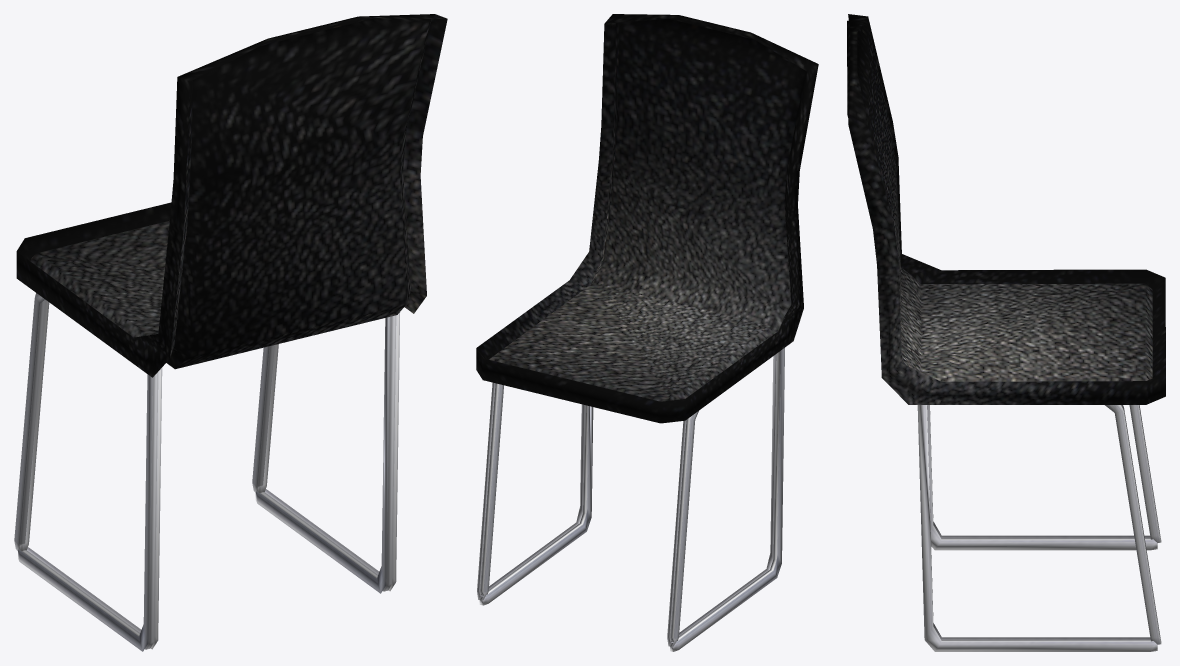
The model's file is chairCafeteria.fbx.
The picture shows the model from 3 angles, left to right: view 1: azimuth 30°, elevation 25°; view 2: azimuth 150°, elevation 25°; view 3: azimuth 270°, elevation 25°; orthographic projection. The views are drawn at different scales.
Parts seen in each view (by area): view 1: chair back.005, chairHand.005, chairHand.001; view 2: chair back.005, chairHand.005, chairHand.001; view 3: chair back.005, chairHand.001, chairHand.005.
Part boxes in pixels (box(x1,y1,x2,y2)): chair back.005: box(16, 14, 447, 377); chairHand.005: box(14, 293, 162, 651); chairHand.001: box(252, 312, 400, 593); chair back.005: box(476, 14, 818, 423); chairHand.005: box(667, 348, 784, 651); chairHand.001: box(477, 382, 593, 605); chair back.005: box(847, 14, 1165, 404); chairHand.001: box(917, 405, 1161, 651); chairHand.005: box(927, 405, 1161, 550).
Bounding box in the file's own units: 78.61 × 180 × 94.84.
